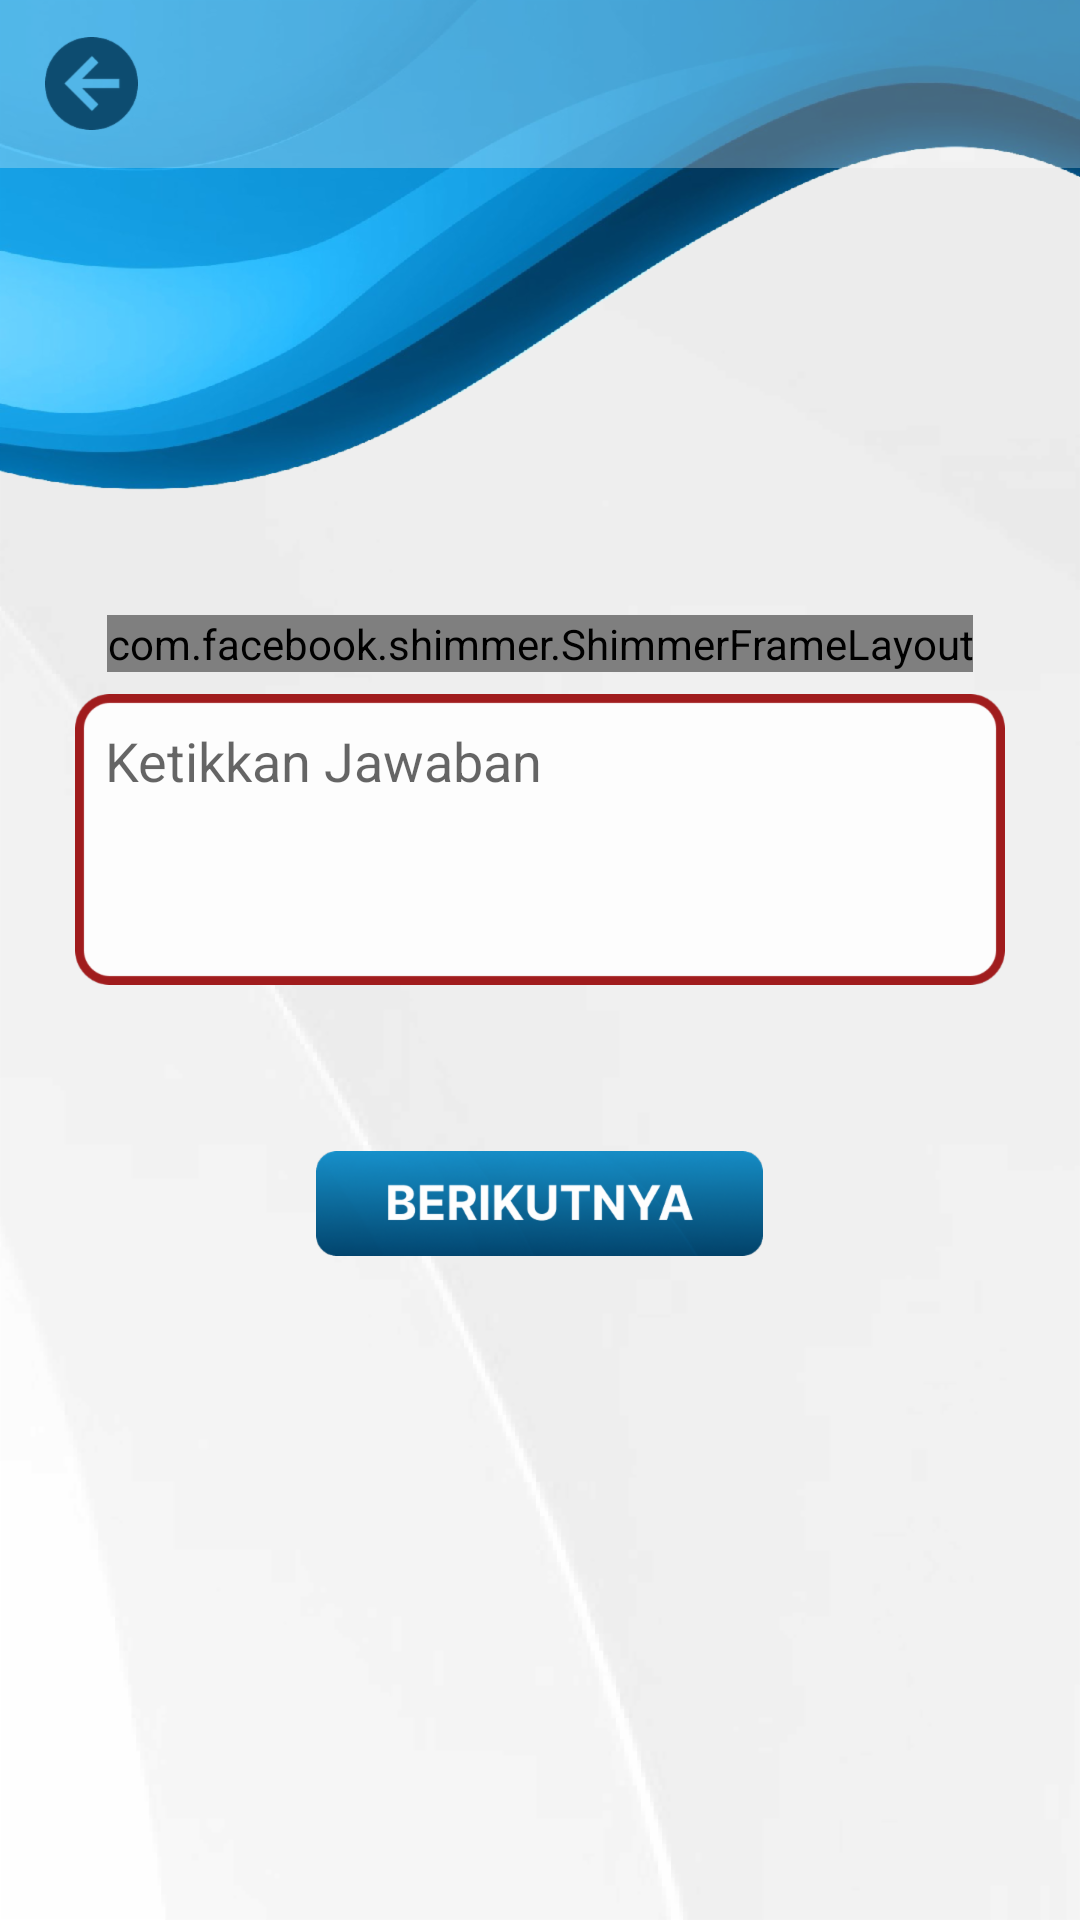

Locate icon controls on the screen. Image size 1080 × 1920, boxes as (x1, y1, x2, y2).
btnback: (45, 37, 138, 130)
